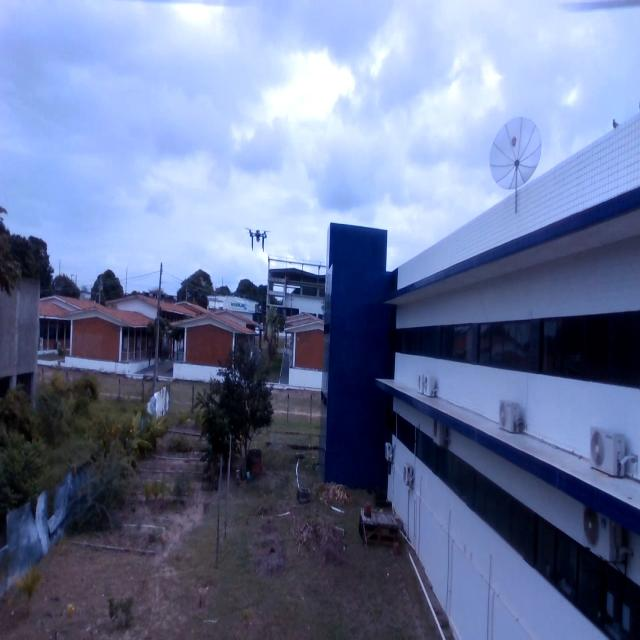-uav-: (244, 222, 269, 256)
